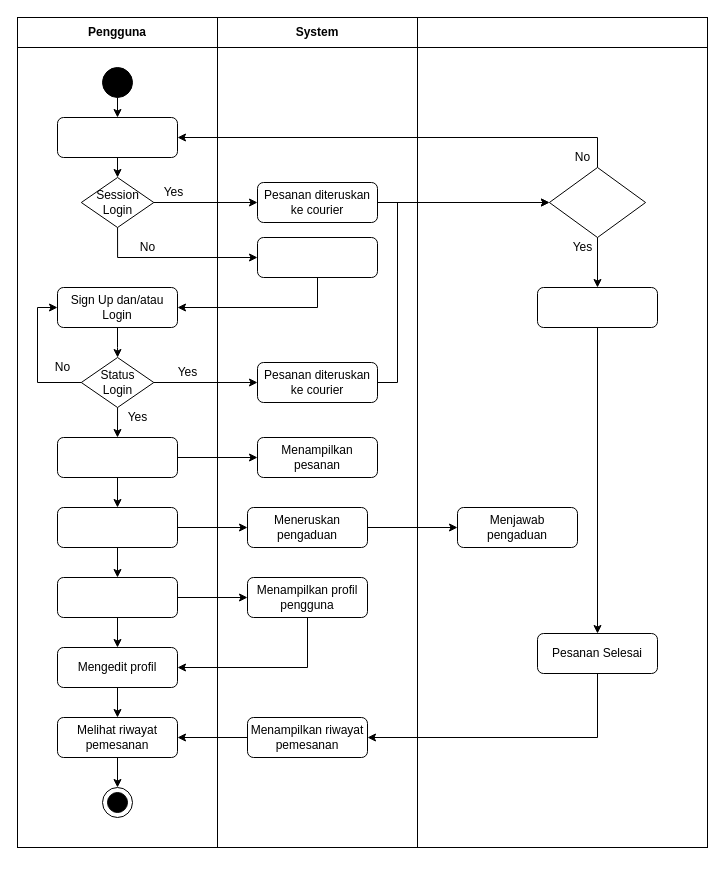
Image size: 725x873. Some labels were removed from this diagram. Here are the shapes that lost their labels. From the top down, the centre of each, then its label:
At (x=562, y=32): "Admin".
At (x=117, y=137): "Mengajukan pesanan".
At (x=597, y=202): "Diterima atau ditolak".
At (x=317, y=257): "Menampilkan halaman login".
At (x=597, y=307): "Pesanan diterima".
At (x=117, y=457): "Melihat pesanan secara real time".
At (x=117, y=527): "Mengajukan pengaduan".
At (x=117, y=597): "Melihat profil akun".
